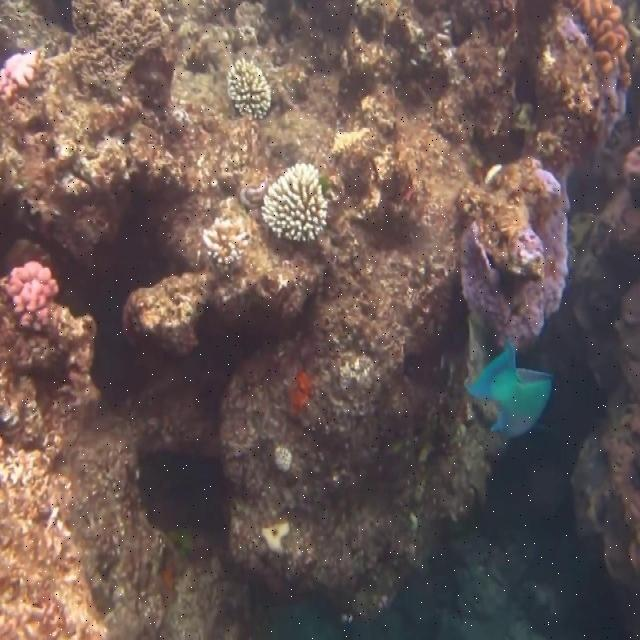fish: (465, 336, 553, 435)
reefs: (456, 158, 571, 353), (566, 0, 632, 93), (262, 163, 329, 243), (0, 263, 58, 331), (229, 56, 273, 120)
